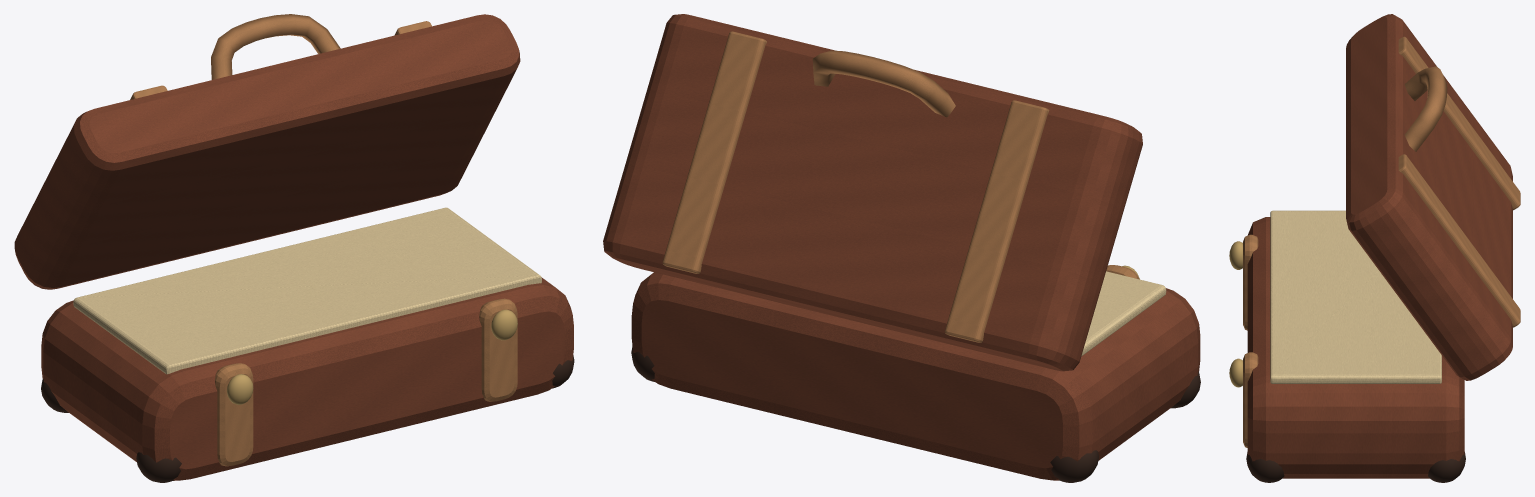
File: suitcase.glb
3 views of the same model, side by side, from view 1: azimuth 30°, elevation 25°; view 2: azimuth 150°, elevation 25°; view 3: azimuth 270°, elevation 25° (orthographic). The views are drawn at different scales.
Parts seen in each view (by area): view 1: suitcase, case_lid; view 2: case_lid, suitcase; view 3: suitcase, case_lid.
Part boxes in pixels (x1,y1,x2,y2): suitcase: [41, 207, 574, 482]; case_lid: [14, 14, 520, 289]; case_lid: [603, 14, 1142, 371]; suitcase: [631, 265, 1200, 482]; suitcase: [1229, 210, 1465, 482]; case_lid: [1346, 14, 1520, 380].
Size of the model in its own units: 1.05 by 0.8051 by 0.6707.
Materials: 5 (3 with a texture image).
